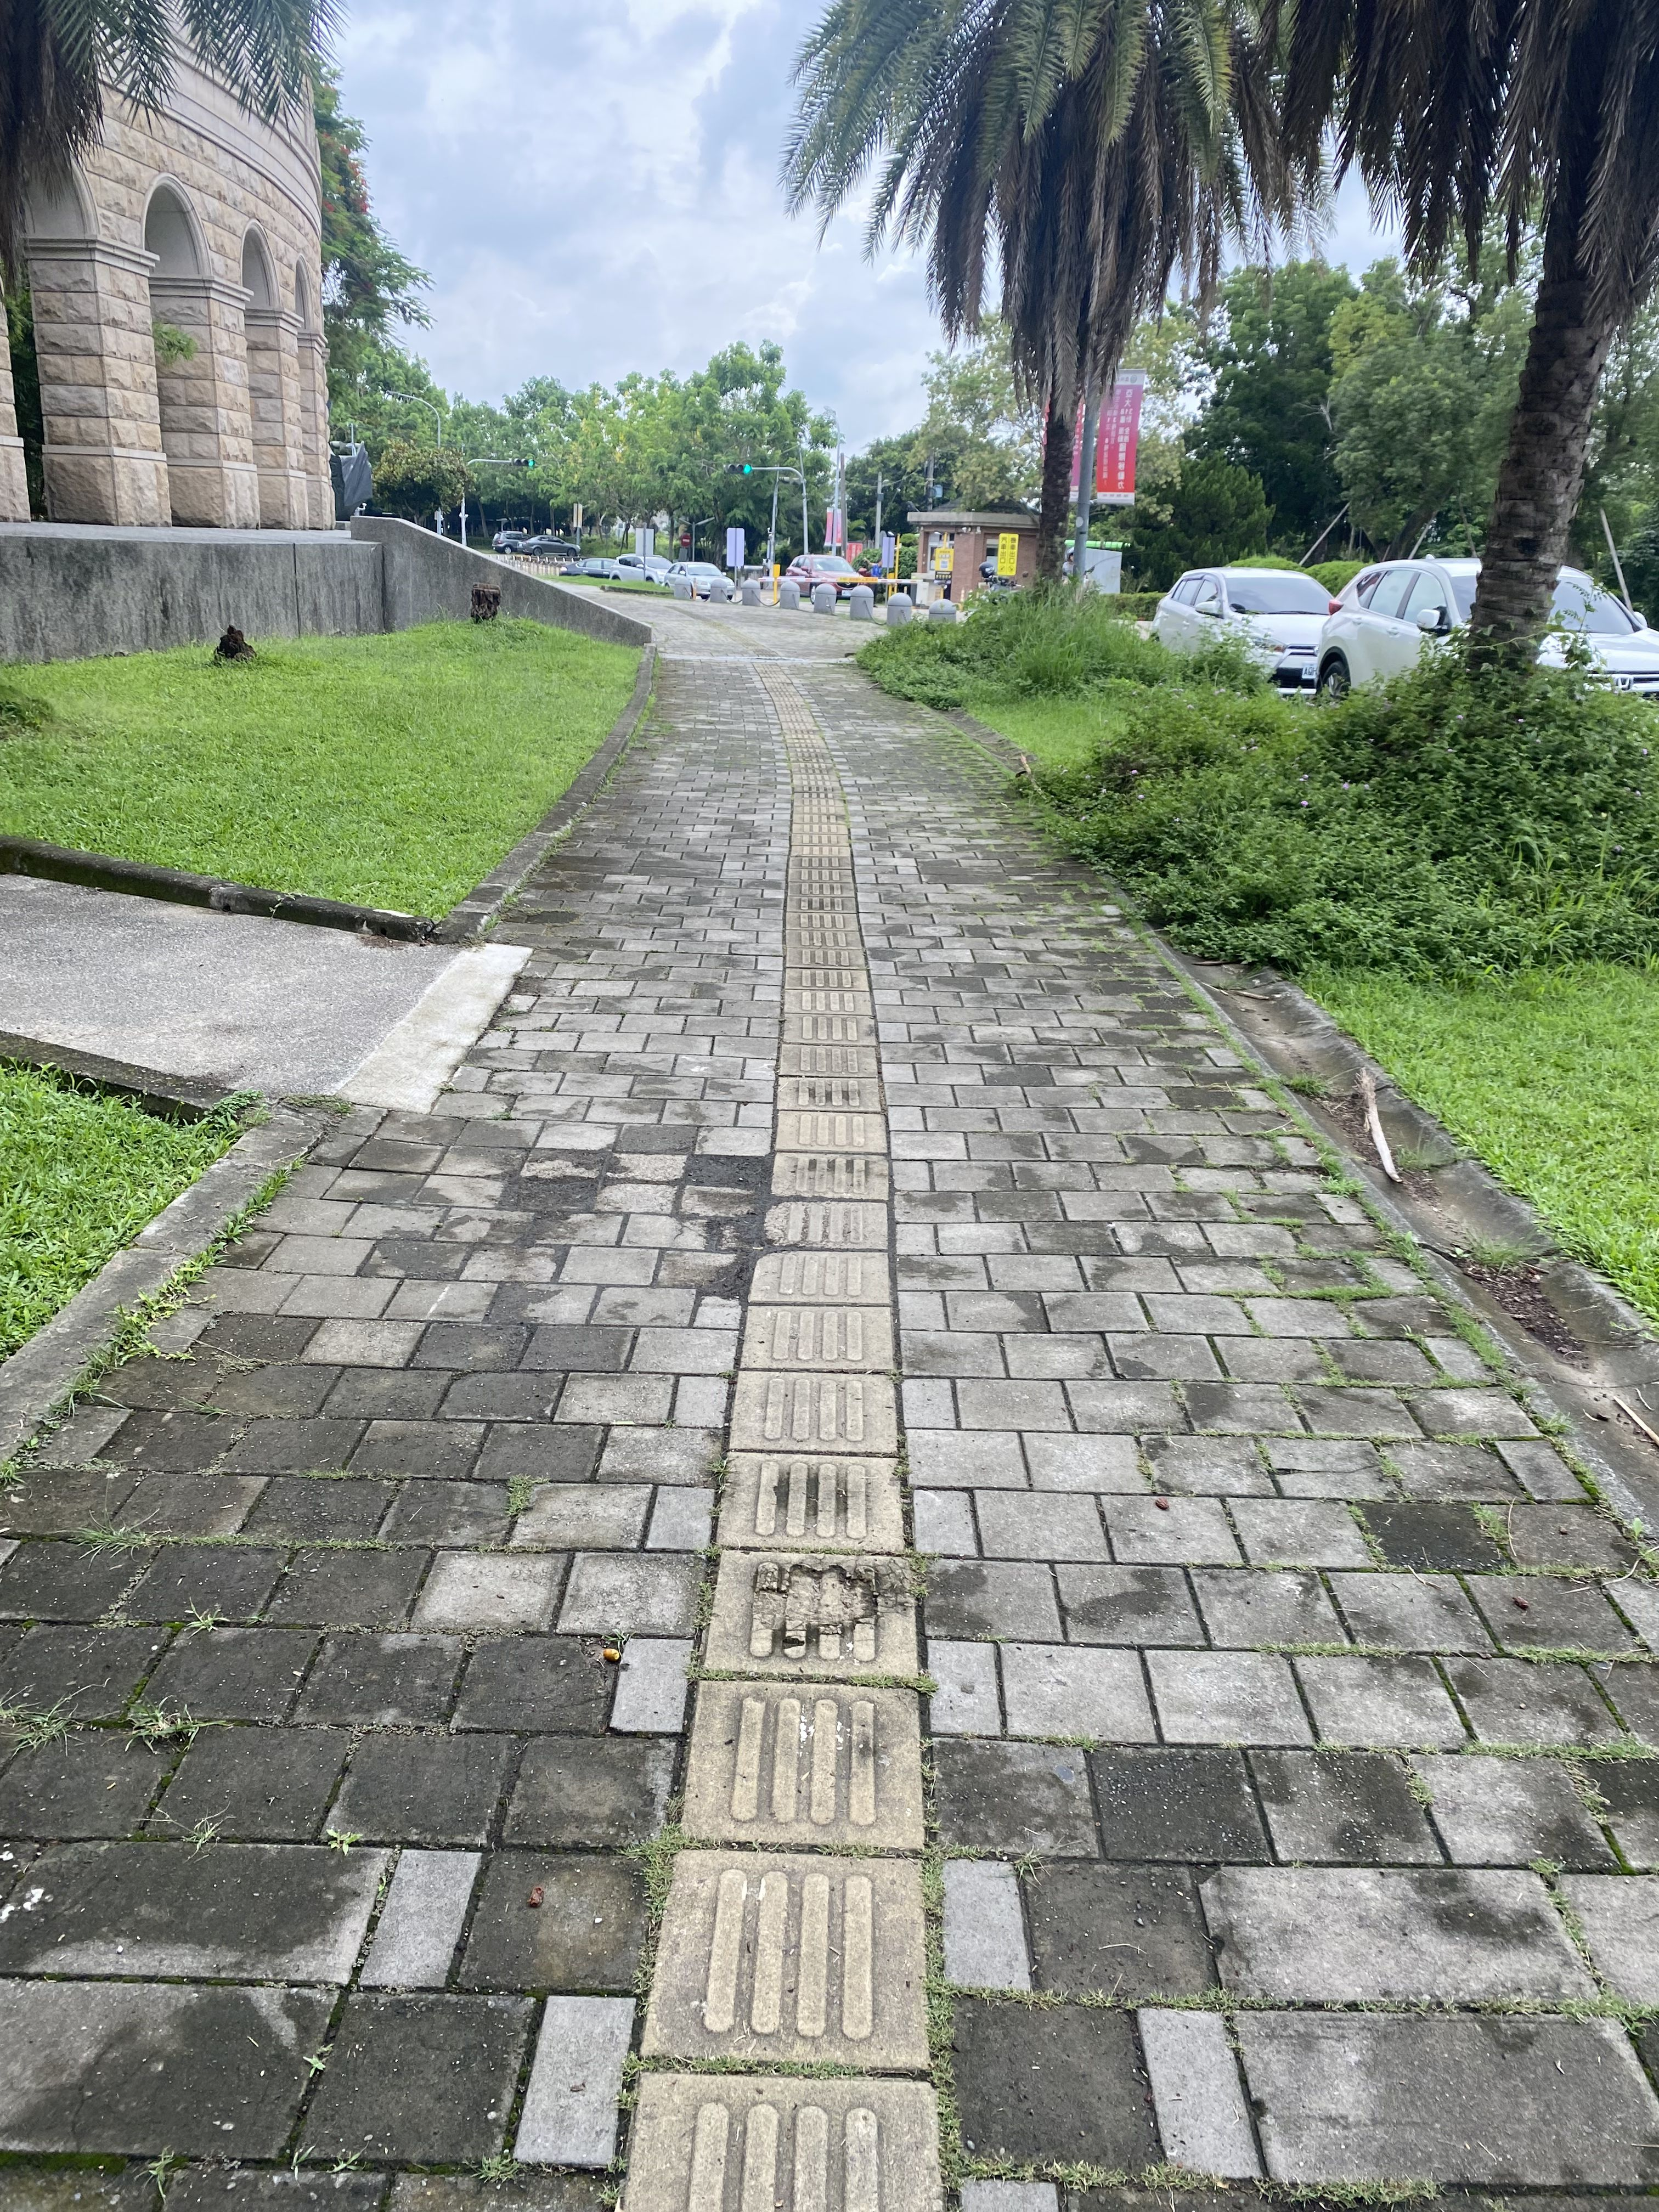0: (3, 920, 1659, 2212)
sidewalk: (495, 563, 1148, 1557)
